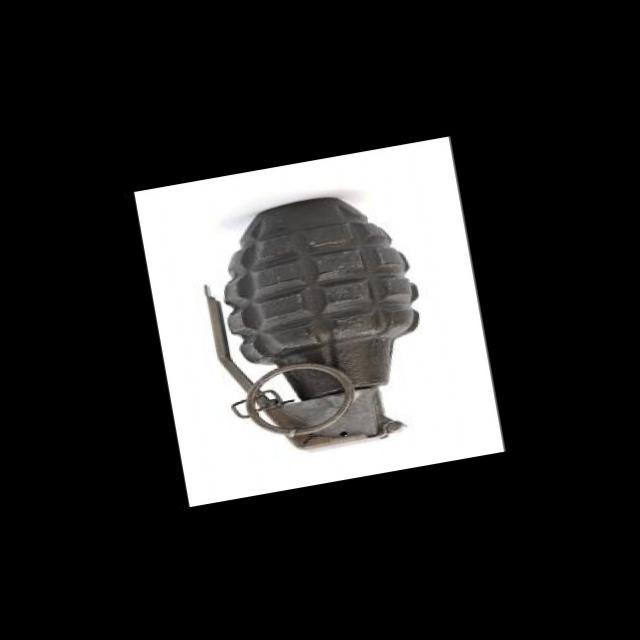grenade: (172, 172, 462, 471)
